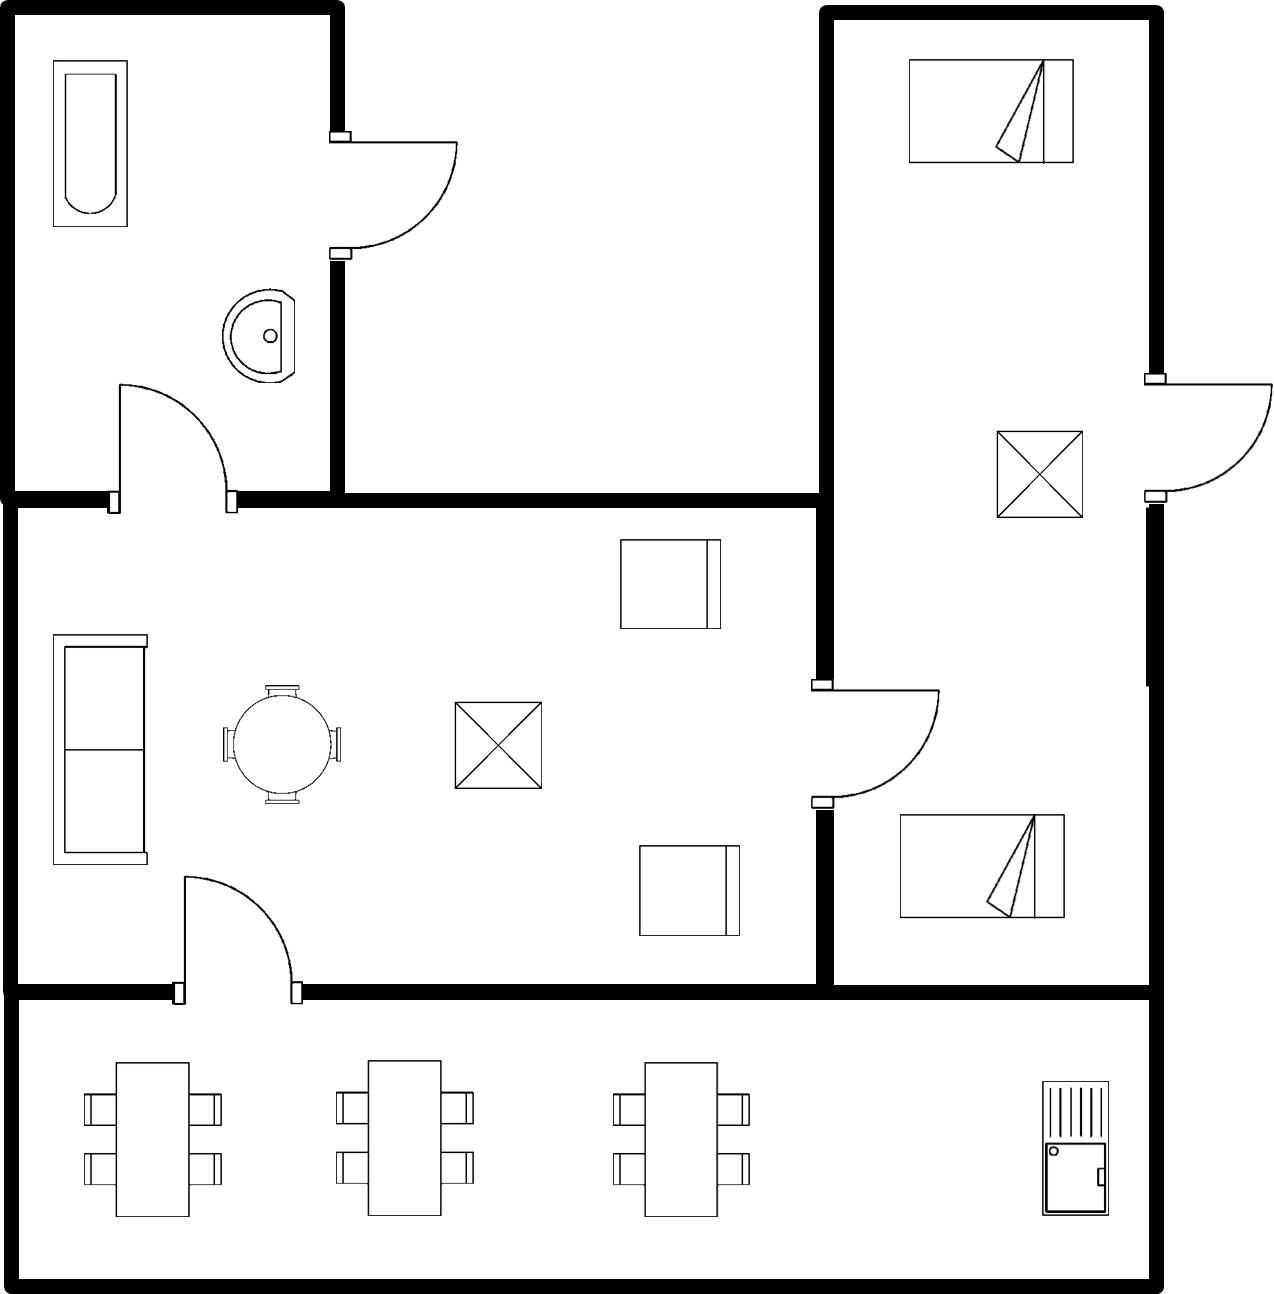bed: (900, 51, 1083, 173), (893, 807, 1072, 923)
coffee_table: (446, 690, 550, 798), (988, 421, 1090, 528)
dining_table: (74, 1052, 242, 1226), (600, 1054, 756, 1226), (326, 1051, 481, 1223)
large_sofa: (47, 626, 157, 871)
round_table: (214, 677, 351, 811)
sink: (1034, 1074, 1117, 1230)
small_sink: (214, 280, 301, 396)
small_sofa: (633, 836, 751, 949), (612, 531, 729, 641)
tub: (47, 51, 134, 241)
